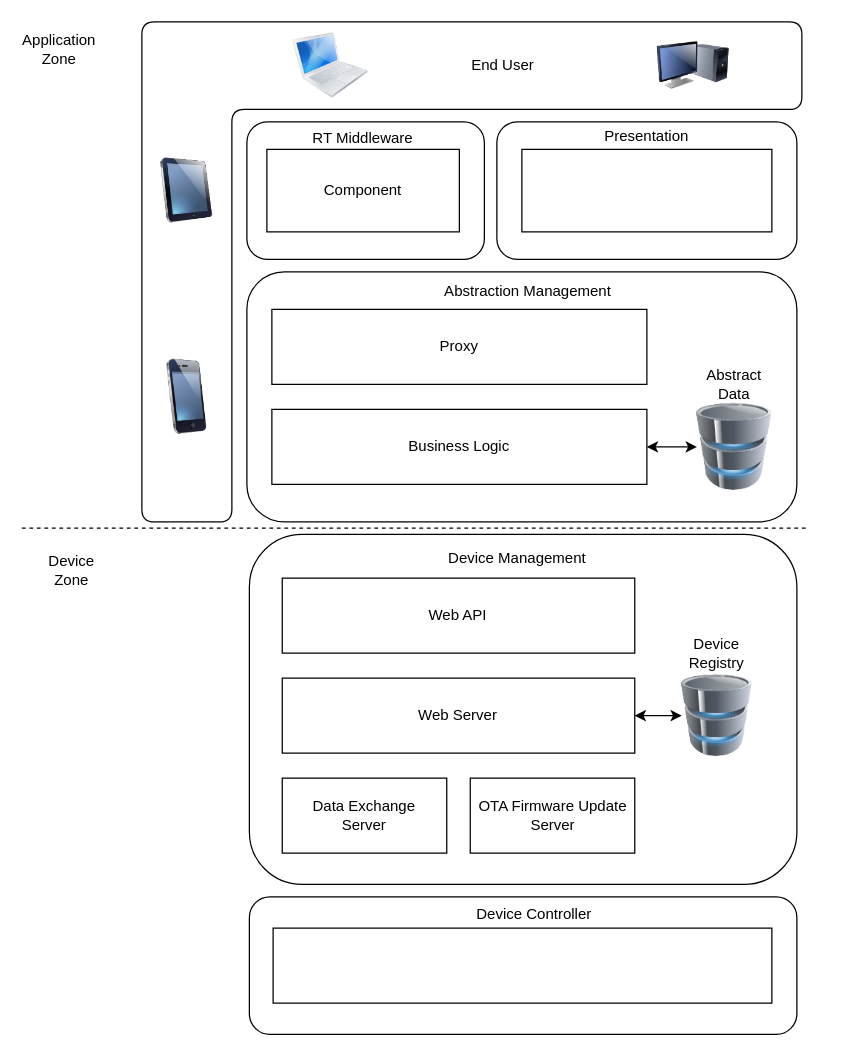
Some shapes in this 844 by 1056 pixel diagram are drawn without their labels. Each missing label, with the box of its shape:
Edge Device: (272, 927, 772, 1003)
Web Application: (521, 148, 772, 232)
